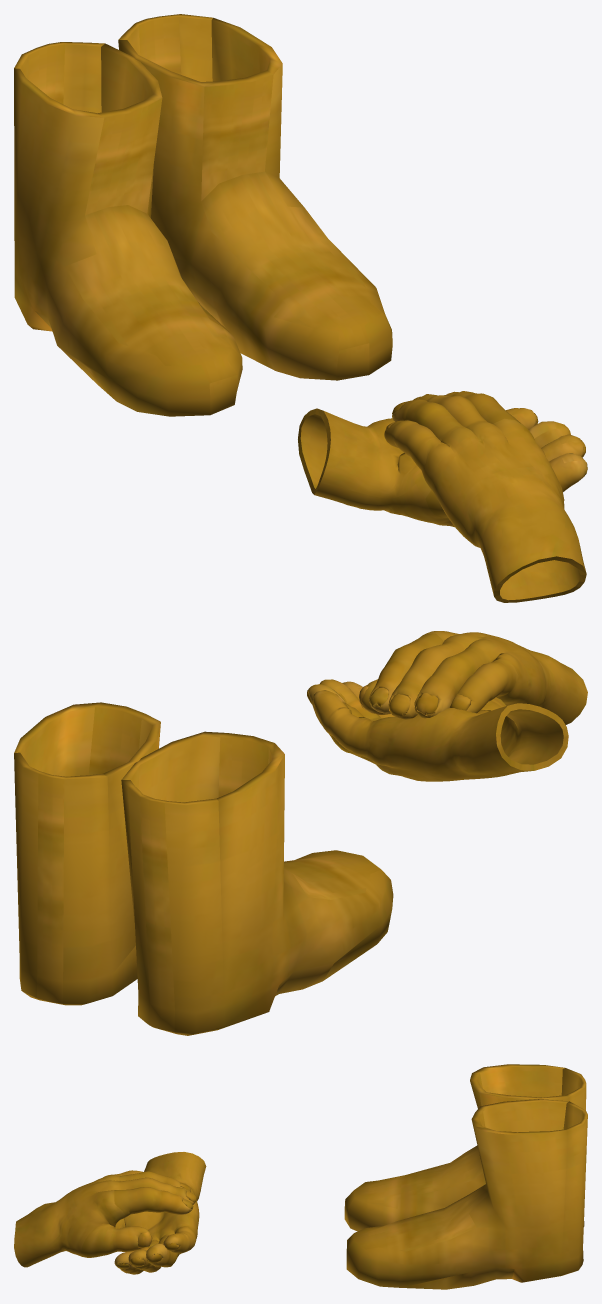
File: daochushoutaoxiezi.FBX
3 views of the same model, one above another, from view 1: azimuth 30°, elevation 25°; view 2: azimuth 150°, elevation 25°; view 3: azimuth 270°, elevation 25° (orthographic). The views are drawn at different scales.
Visible parts, largest first — view 1: XieZi, 对象001, 对象002, ShouTao; view 2: XieZi, 对象001, ShouTao, 对象002; view 3: 对象001, 对象002, XieZi, ShouTao.
Boxes of the visible parts, bbox=[...] form: XieZi: bbox=[14, 42, 242, 416]; 对象001: bbox=[118, 14, 392, 380]; 对象002: bbox=[384, 391, 586, 602]; ShouTao: bbox=[298, 408, 587, 527]; XieZi: bbox=[121, 731, 393, 1035]; 对象001: bbox=[14, 702, 160, 1005]; ShouTao: bbox=[307, 679, 568, 781]; 对象002: bbox=[359, 631, 587, 724]; 对象001: bbox=[346, 1099, 587, 1289]; 对象002: bbox=[14, 1170, 196, 1267]; XieZi: bbox=[344, 1064, 586, 1231]; ShouTao: bbox=[114, 1152, 206, 1274].
Bounding box in the file's own units: 26.6 × 23.36 × 75.27.
